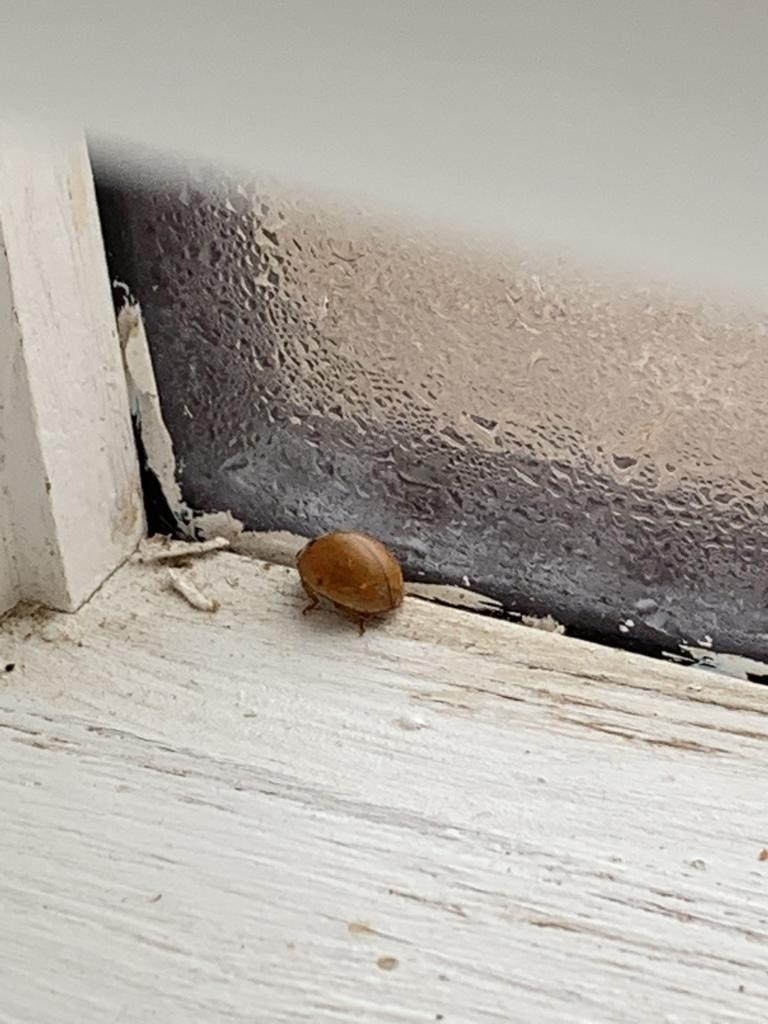ladybug: (291, 526, 414, 644)
